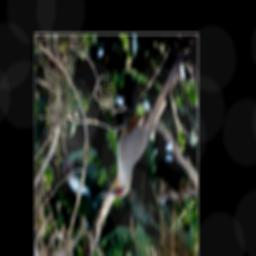Cuckoo: (99, 45, 188, 200)
